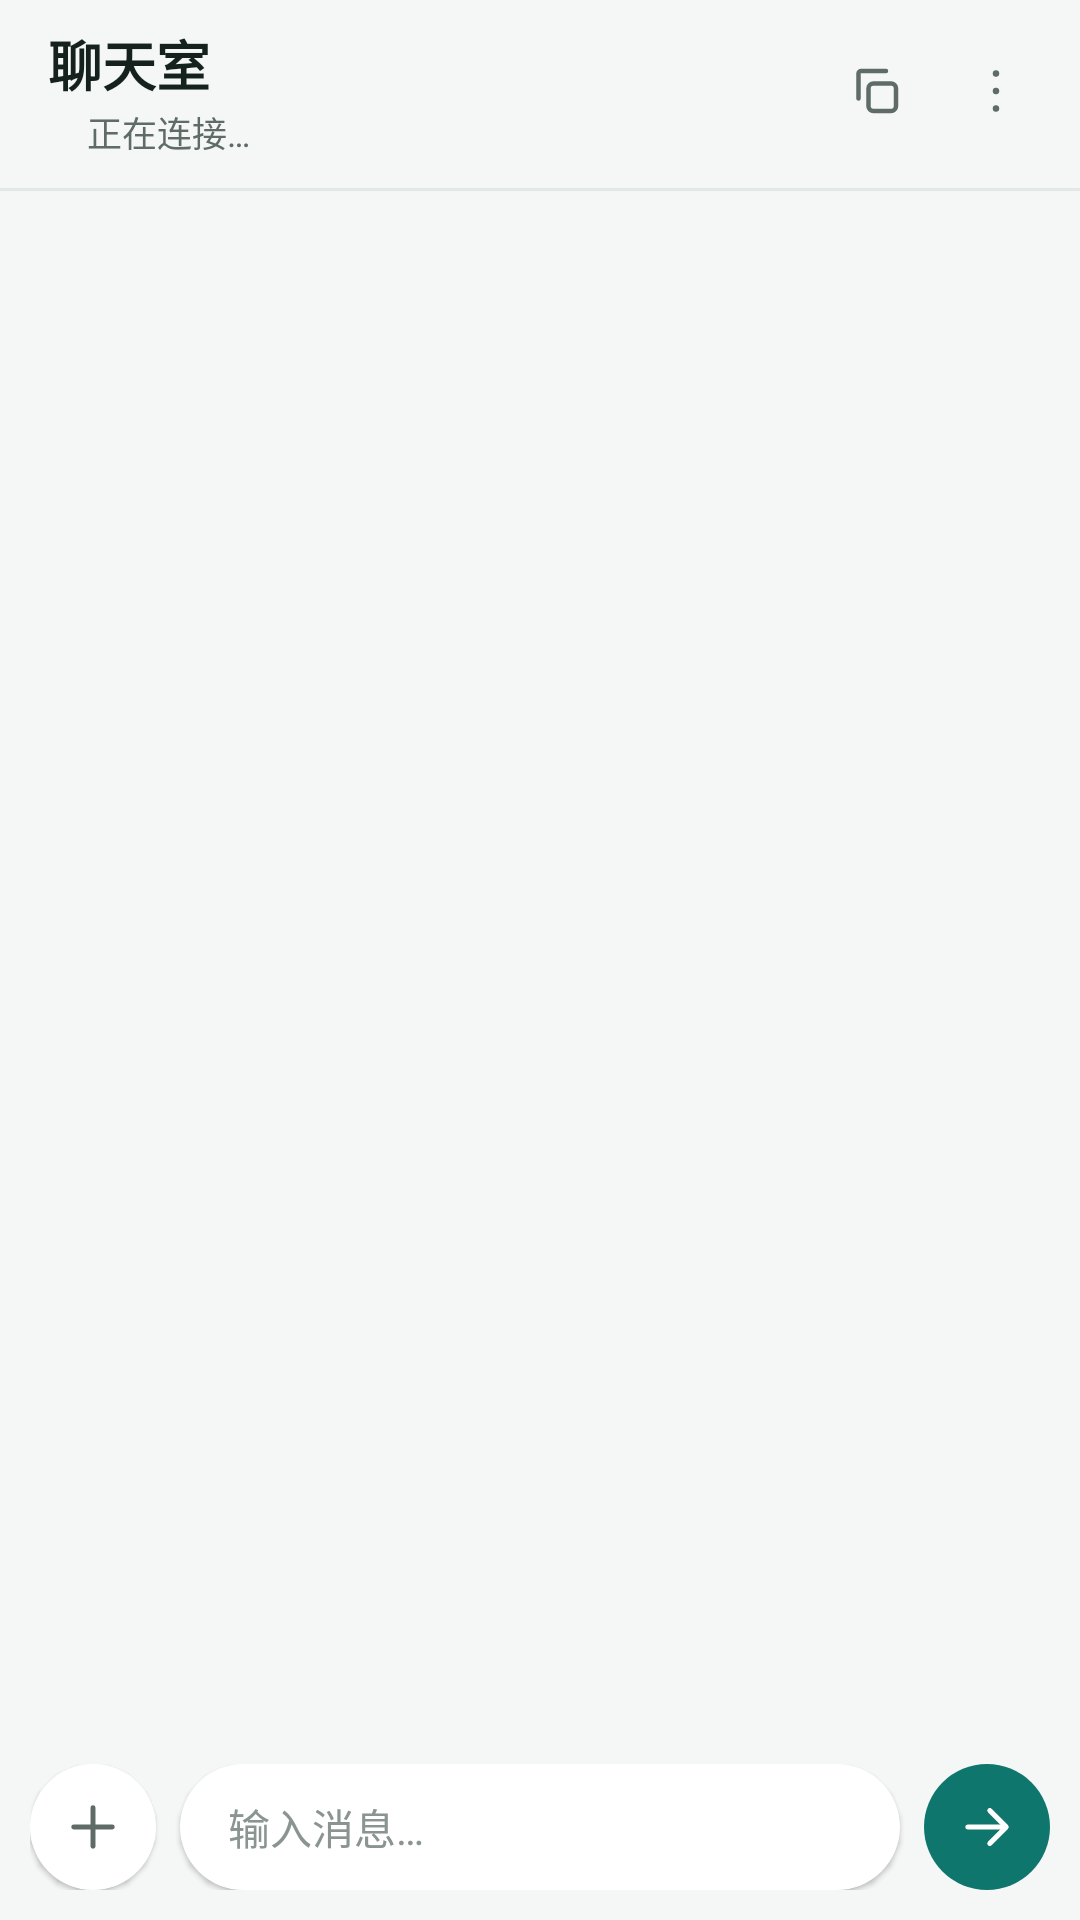

Point at icon controls on the screen. Image size 1080x1920, points as (x,y).
发送: (987,1827)
发送文件: (93,1827)
复制服务地址: (877,91)
更多: (996,91)
